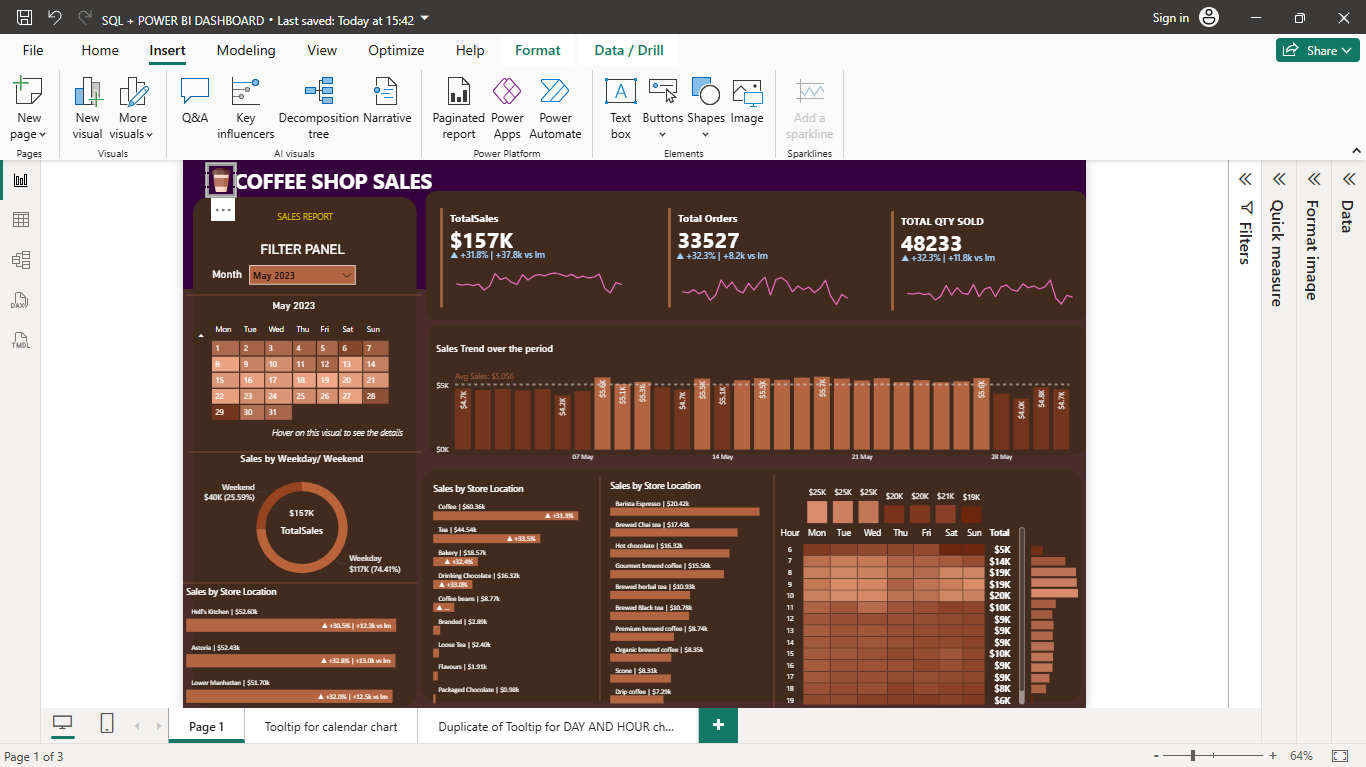

Layout of this report page (visuals, bound fields, positions):
{"tool":"powerbi","page":{"name":"Page 1","canvas":[1400,850],"ordinal":0},"visuals":[{"type":"shape","box":[369.2,479.3,1025.3,361.4],"z":0},{"type":"shape","box":[0,0,1400.6,200.1],"z":1000},{"type":"shape","box":[15.6,57.9,347.3,791.5],"z":2000},{"type":"shape","box":[376.9,48.1,1023.7,200.1],"z":3000},{"type":"textbox","box":[74.5,4.7,386.2,65.1],"z":4000},{"type":"cardVisual","fields":{"Data":["Transactions.TotalSales"]},"box":[394.2,70.4,299.4,164.4],"z":4000,"group":"g1"},{"type":"cardVisual","fields":{"Data":["Transactions.Total Orders"]},"box":[747.7,70.4,299.4,164.4],"z":4000,"group":"g2"},{"type":"cardVisual","fields":{"Data":["Transactions.TOTAL QTY SOLD"]},"box":[1093.4,75.1,299.4,164.4],"z":4000,"group":"g3"},{"type":"slicer","fields":{"Values":["Date Table.Month Year"]},"box":[97,158,175.2,45.4],"z":5000},{"type":"group","id":"g1","title":"Group 1","box":[394.2,70.4,300.3,164.2],"z":6000},{"type":"lineChart","fields":{"Category":["Date Table.Date Hierarchy.Date"],"Y":["Transactions.TotalSales"]},"box":[409.7,138.6,285.4,91.5],"z":6000,"group":"g1"},{"type":"lineChart","fields":{"Category":["Date Table.Date Hierarchy.Date"],"Y":["Transactions.Total Orders"]},"box":[760.1,140.7,285.4,91.5],"z":6000,"group":"g2"},{"type":"lineChart","fields":{"Category":["Date Table.Date Hierarchy.Date"],"Y":["Transactions.TOTAL QTY SOLD"]},"box":[1108.9,143.3,285.4,91.5],"z":6000,"group":"g3"},{"type":"group","id":"g2","title":"Group 1","box":[747.7,70.4,300.3,164.2],"z":7000},{"type":"group","id":"g3","title":"Group 1","box":[1093.4,75.1,301.9,164.2],"z":8000},{"type":"pivotTable","fields":{"Rows":["Date Table.Week Number"],"Columns":["Date Table.DAY NAME"],"Values":["Min(Date Table.Day Number)"]},"box":[14.1,245.6,347.3,208],"z":9000},{"type":"card","fields":{"Values":["Min(Date Table.Month Year)"]},"box":[101.7,204.9,139.2,43.8],"z":10000},{"type":"card","fields":{"Values":["Transactions.Foot Note"]},"box":[86,403.6,308.2,43.8],"z":11000},{"type":"shape","box":[472.4,491.2,347.3,347.3],"z":12000},{"type":"shape","box":[6.3,204.9,362.9,9.4],"z":13000},{"type":"donutChart","title":"Sales by Weekday/ Weekend","fields":{"Category":["Date Table.Weekday/ Weekend"],"Y":["Transactions.TotalSales"]},"box":[0,453.6,369.2,214.3],"z":14000},{"type":"card","fields":{"Values":["Transactions.TotalSales"]},"box":[120.4,525.6,126.7,67.3],"z":15000},{"type":"shape","box":[0,650.7,362.9,9.4],"z":16000},{"type":"clusteredBarChart","title":"Sales by Store Location","fields":{"Y":["Transactions.Placeholder","Transactions.TotalSales"],"Category":["Transactions.product_category"]},"box":[383.1,501,263.7,347.4],"z":17000},{"type":"shape","box":[381.6,255.9,1019.1,201.6],"z":18000},{"type":"columnChart","title":"Sales Trend over the period","fields":{"Category":["Transactions.transaction_date"],"Y":["Transactions.TotalSales"]},"box":[387.8,282.3,995.8,193.9],"z":19000},{"type":"clusteredBarChart","title":"Sales by Store Location","fields":{"Category":["Transactions.store_location"],"Y":["Transactions.Placeholder","Transactions.TotalSales"]},"box":[0,660.1,361.3,189.3],"z":20000},{"type":"shape","box":[7.8,448.9,362.9,9.4],"z":21000},{"type":"shape","box":[819.7,641.3,362.9,9.4],"z":22000},{"type":"clusteredBarChart","title":"Sales by Store Location","fields":{"Y":["Transactions.Placeholder","Transactions.TotalSales"],"Category":["Transactions.product_type"]},"box":[657.7,496.4,273,352.1],"z":23000},{"type":"shape","box":[755.5,488.7,322.2,361.3],"z":24000},{"type":"pivotTable","fields":{"Rows":["Transactions.Hour"],"Columns":["Date Table.DAY NAME"],"Values":["Transactions.TotalSales"]},"box":[916.6,564.7,394.2,284.7],"z":25000},{"type":"barChart","fields":{"Category":["Transactions.Hour"],"Y":["Transactions.TotalSales"]},"box":[1310.7,586.3,83.8,262.1],"z":26000},{"type":"columnChart","fields":{"Y":["Transactions.TotalSales"],"Category":["Date Table.DAY NAME"]},"box":[963.2,496.4,280.7,72.9],"z":27000},{"type":"textbox","title":"Month","box":[40.7,167.4,84.5,28.2],"z":28000},{"type":"textbox","box":[117.9,74.5,142.7,45],"z":29000},{"type":"textbox","title":"FILTER PANEL","box":[114.2,126.7,153.3,26.6],"z":30000},{"type":"image","box":[35.7,4.7,46.5,52.7],"z":30001}]}

Visuals, with their boxes on the page's 1400x850 design canvas (x1, y1, x2, y2). These are canvas units, not pixel positions in the 1366x767 screenshot, which may show the page scaled, cropped or inside an application window:
shape: 369/479/1394/841
shape: 0/0/1401/200
shape: 16/58/363/849
shape: 377/48/1401/248
textbox: 74/5/461/70
cardVisual - Transactions.TotalSales: 394/70/694/235
cardVisual - Transactions.Total Orders: 748/70/1047/235
cardVisual - Transactions.TOTAL QTY SOLD: 1093/75/1393/240
slicer - Date Table.Month Year: 97/158/272/203
"Group 1" group: 394/70/694/235
lineChart - Date Table.Date Hierarchy.Date x Transactions.TotalSales: 410/139/695/230
lineChart - Date Table.Date Hierarchy.Date x Transactions.Total Orders: 760/141/1046/232
lineChart - Date Table.Date Hierarchy.Date x Transactions.TOTAL QTY SOLD: 1109/143/1394/235
"Group 1" group: 748/70/1048/235
"Group 1" group: 1093/75/1395/239
pivotTable - Date Table.Week Number x Date Table.DAY NAME: 14/246/361/454
card - Min(Date Table.Month Year): 102/205/241/249
card - Transactions.Foot Note: 86/404/394/447
shape: 472/491/820/838
shape: 6/205/369/214
"Sales by Weekday/ Weekend" donutChart: 0/454/369/668
card - Transactions.TotalSales: 120/526/247/593
shape: 0/651/363/660
"Sales by Store Location" clusteredBarChart: 383/501/647/848
shape: 382/256/1401/458
"Sales Trend over the period" columnChart: 388/282/1384/476
"Sales by Store Location" clusteredBarChart: 0/660/361/849
shape: 8/449/371/458
shape: 820/641/1183/651
"Sales by Store Location" clusteredBarChart: 658/496/931/848
shape: 756/489/1078/850
pivotTable - Transactions.Hour x Date Table.DAY NAME: 917/565/1311/849
barChart - Transactions.Hour x Transactions.TotalSales: 1311/586/1394/848
columnChart - Transactions.TotalSales x Date Table.DAY NAME: 963/496/1244/569
"Month" textbox: 41/167/125/196
textbox: 118/74/261/120
"FILTER PANEL" textbox: 114/127/268/153
image: 36/5/82/57
